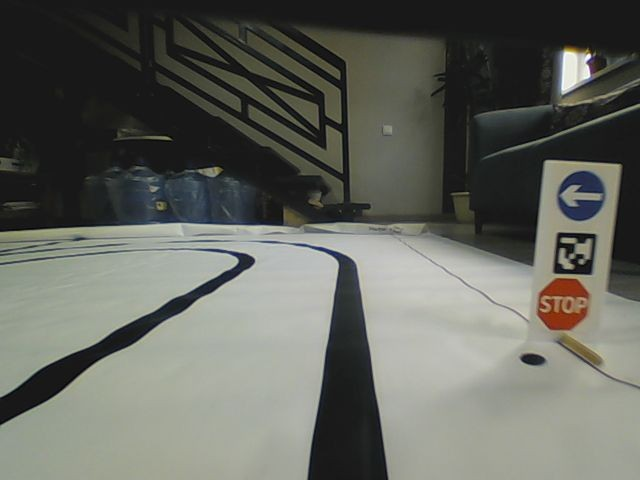Stop: (533, 276, 594, 332)
